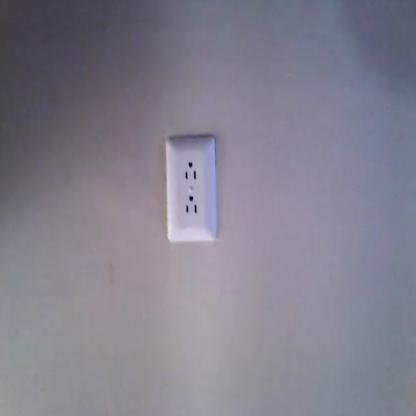OUTLET: (166, 136, 217, 242)
